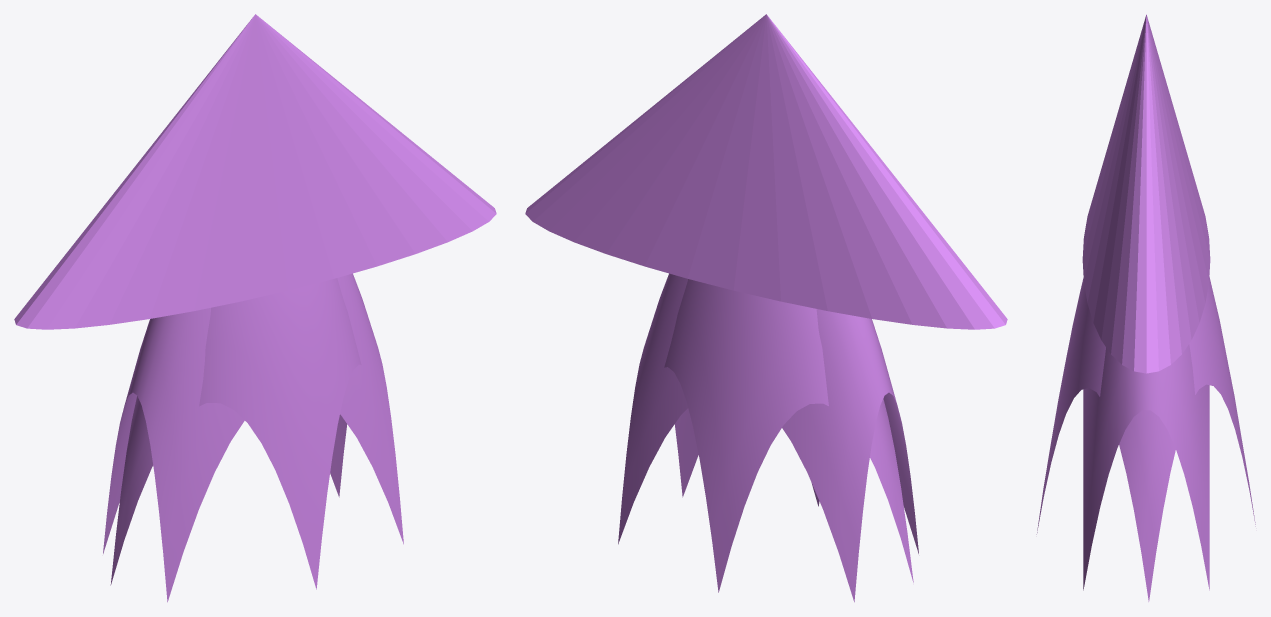
File: purpleSquid.obj
3 views of the same model, side by side, from view 1: azimuth 30°, elevation 25°; view 2: azimuth 150°, elevation 25°; view 3: azimuth 270°, elevation 25° (orthographic). The views are drawn at different scales.
Parts seen in each view (by area): view 1: 円錐, NURBSサーフェス.001, NURBSサーフェス; view 2: 円錐, NURBSサーフェス.001, NURBSサーフェス; view 3: 円錐, NURBSサーフェス, NURBSサーフェス.001.
Boxes of the visible parts, x1,y1,x2,y2 form: 円錐: (14, 14, 496, 329); NURBSサーフェス.001: (110, 278, 361, 589); NURBSサーフェス: (103, 273, 403, 602); 円錐: (525, 14, 1007, 329); NURBSサーフェス.001: (664, 279, 913, 592); NURBSサーフェス: (618, 273, 918, 602); 円錐: (1082, 14, 1210, 373); NURBSサーフェス: (1083, 344, 1209, 590); NURBSサーフェス.001: (1036, 276, 1255, 601).
Bounding box in the file's own units: 4.27 × 4.57 × 1.75.
Materials: 1 (1 with a texture image).
